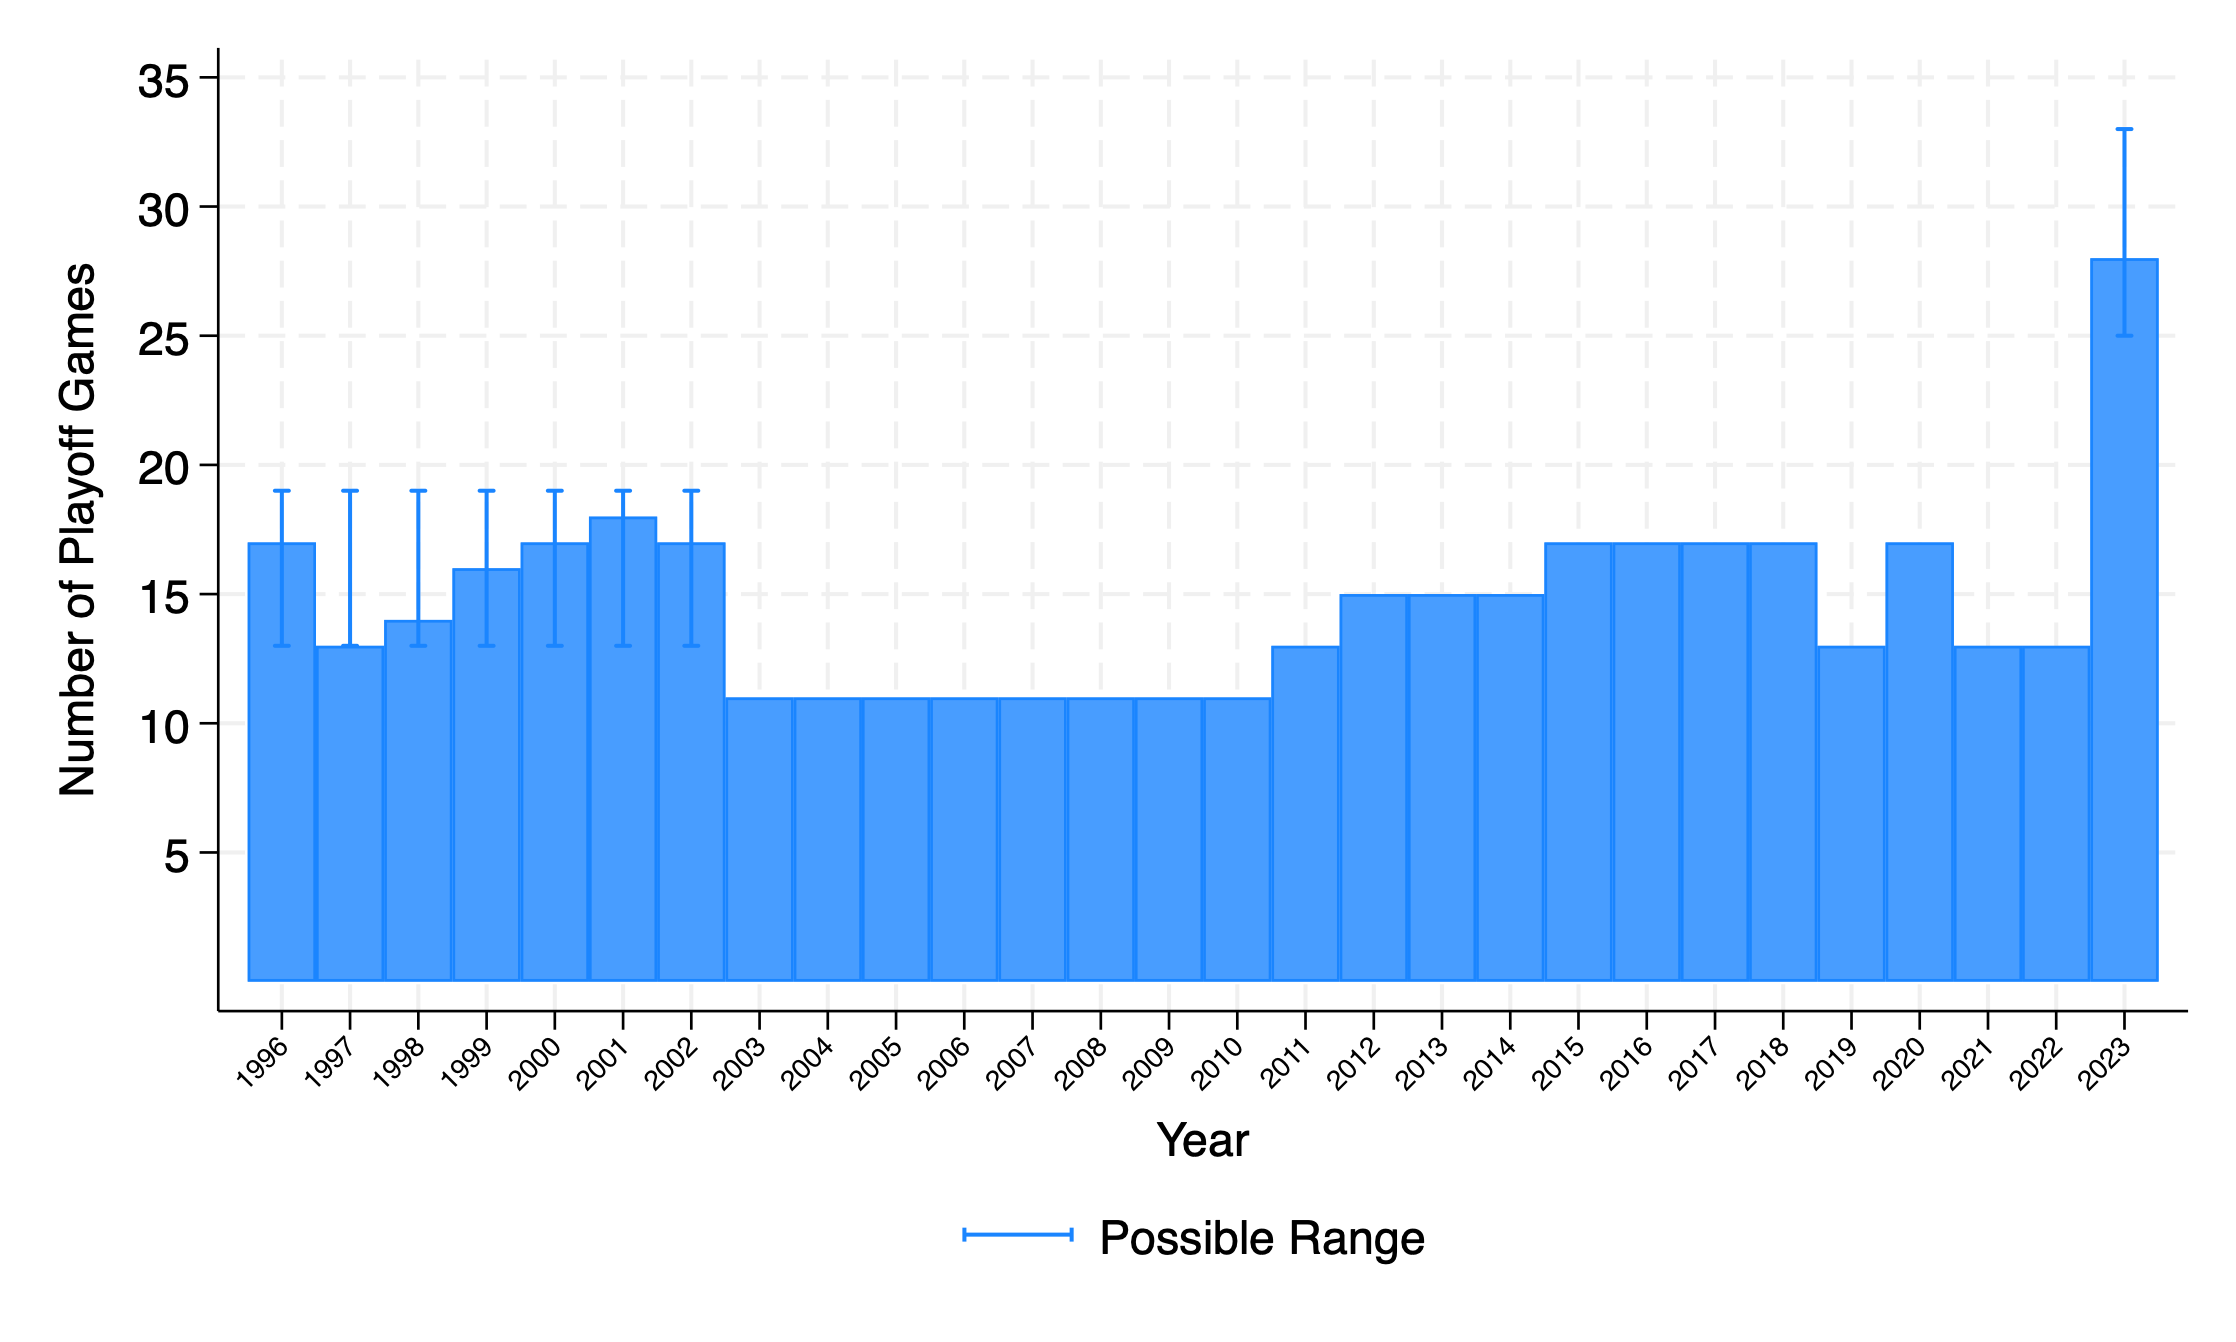

This screenshot's page, from the dashboard's own definition file:
{"tool":"tableau","page":{"name":"Bar Dashboard","canvas":[1000,800],"ordinal":1},"visuals":[{"type":"worksheet","title":"Bar","mark":"Bar","rows":["home"],"cols":["capacity","attendance"],"box":[8,8,824,784]},{"type":"legend","title":"Bar","param":"[federated.1ufswty1iv08av15h53pq11x7kk5].[:Measure Names]","box":[832,8,160,48]}]}

Visuals, with their boxes on the page's 1000x800 design canvas (x1, y1, x2, y2). These are canvas units, not pixel positions in the 2236x1342 screenshot, which may show the page scaled, cropped or inside an application window:
"Bar" worksheet (Bar marks): 8/8/832/792
"Bar" legend: 832/8/992/56
